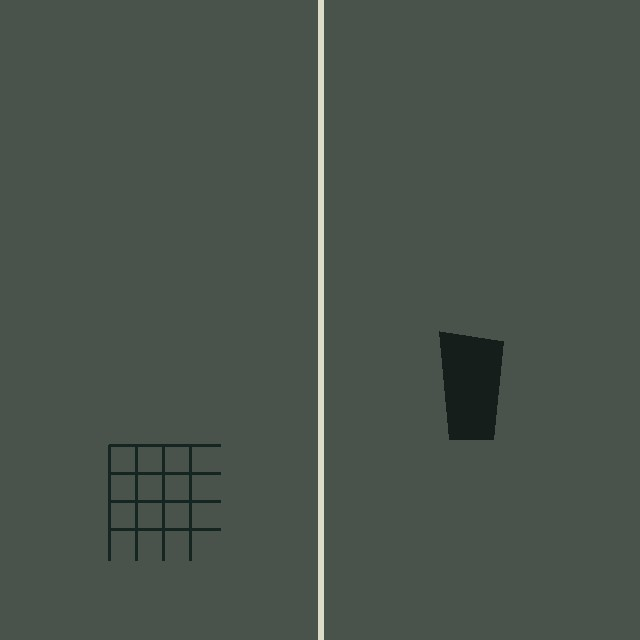alligator_crack: (109, 445, 220, 560)
damaged_surface: (439, 331, 503, 439)
